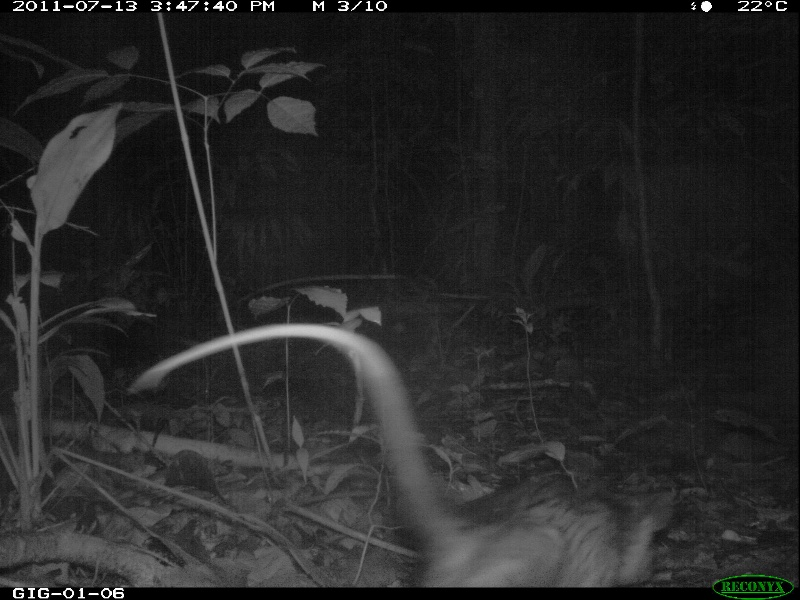opossum: (140, 323, 681, 585)
